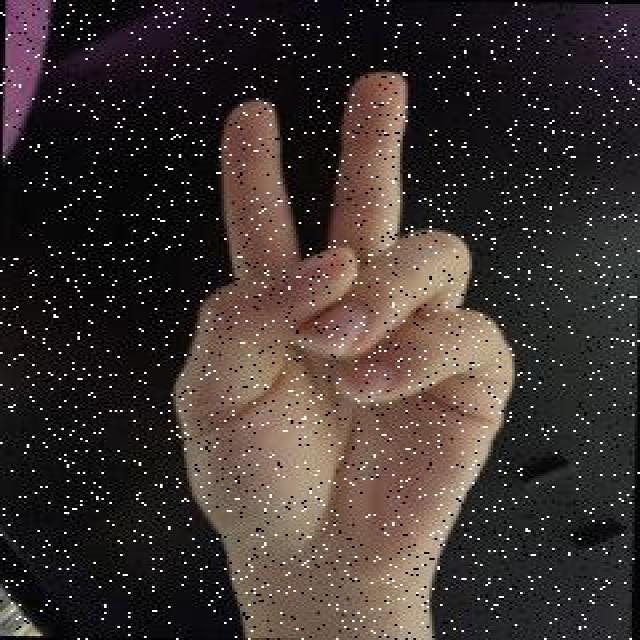V: (165, 62, 531, 588)
